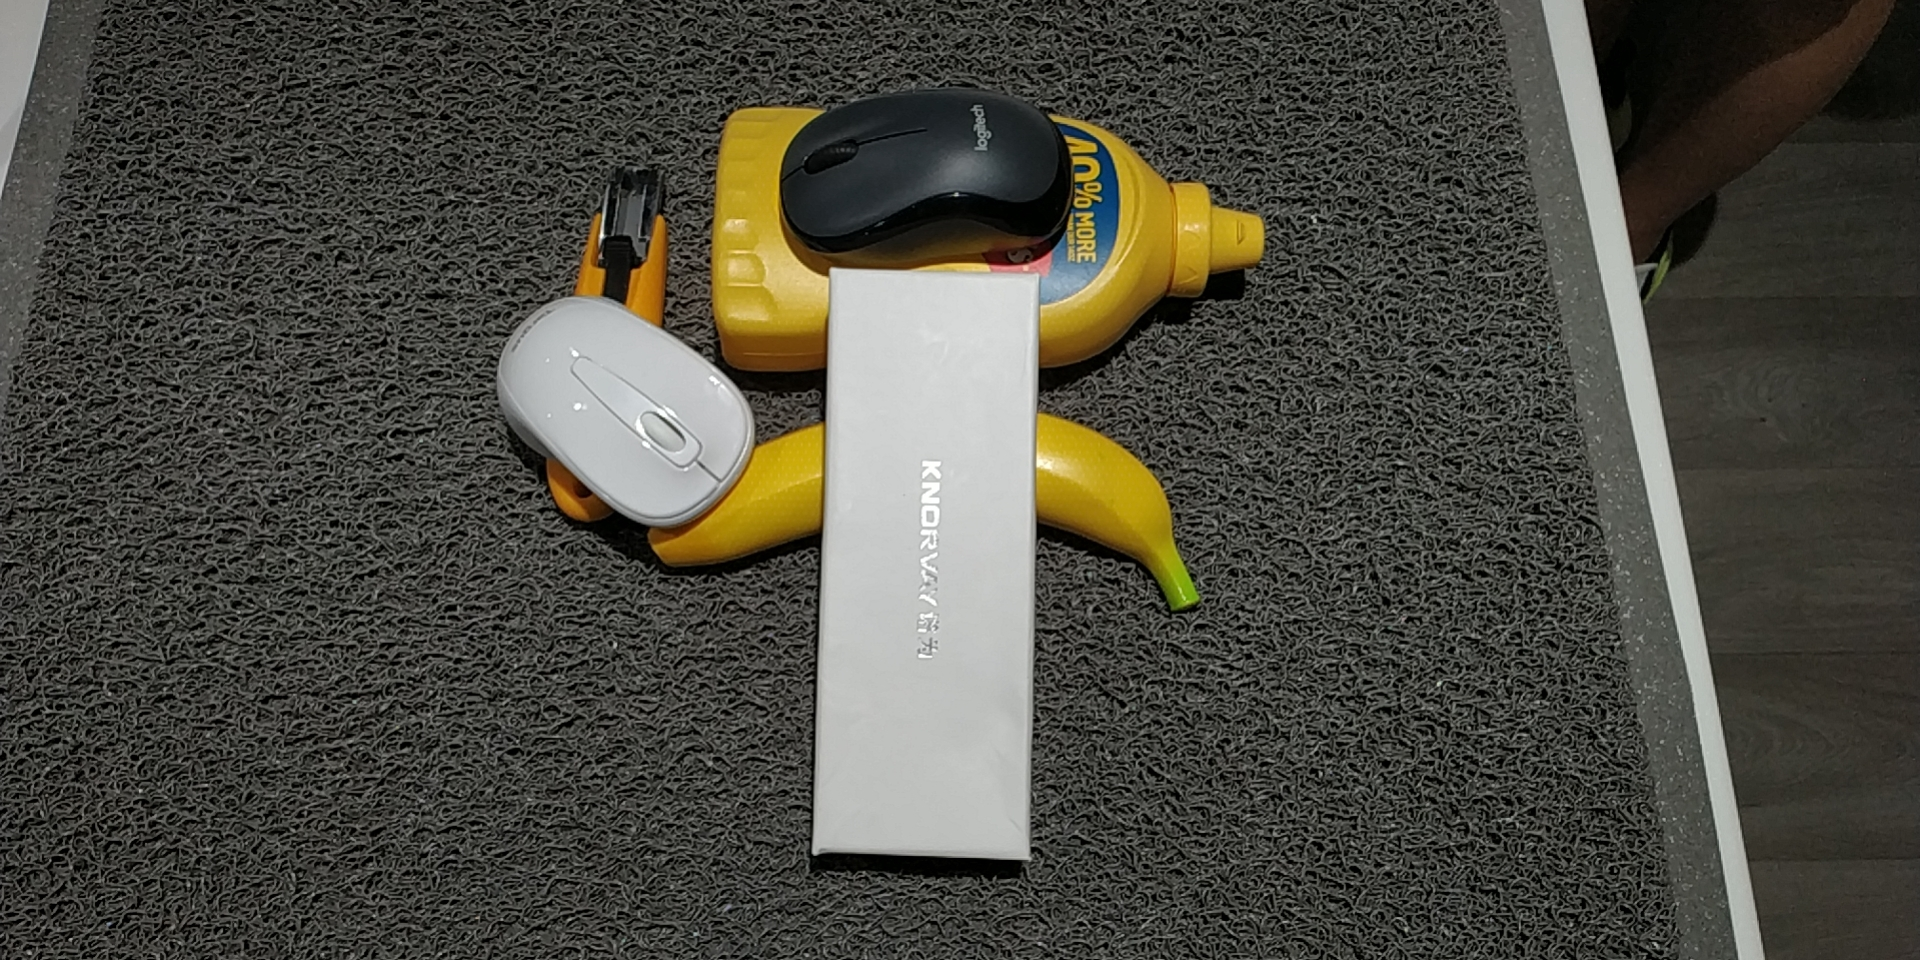banana: (640, 400, 1213, 636)
bottle: (711, 103, 1264, 371)
box: (800, 263, 1049, 874)
knife: (550, 168, 675, 533)
mouse: (489, 296, 756, 528), (774, 84, 1069, 263)
